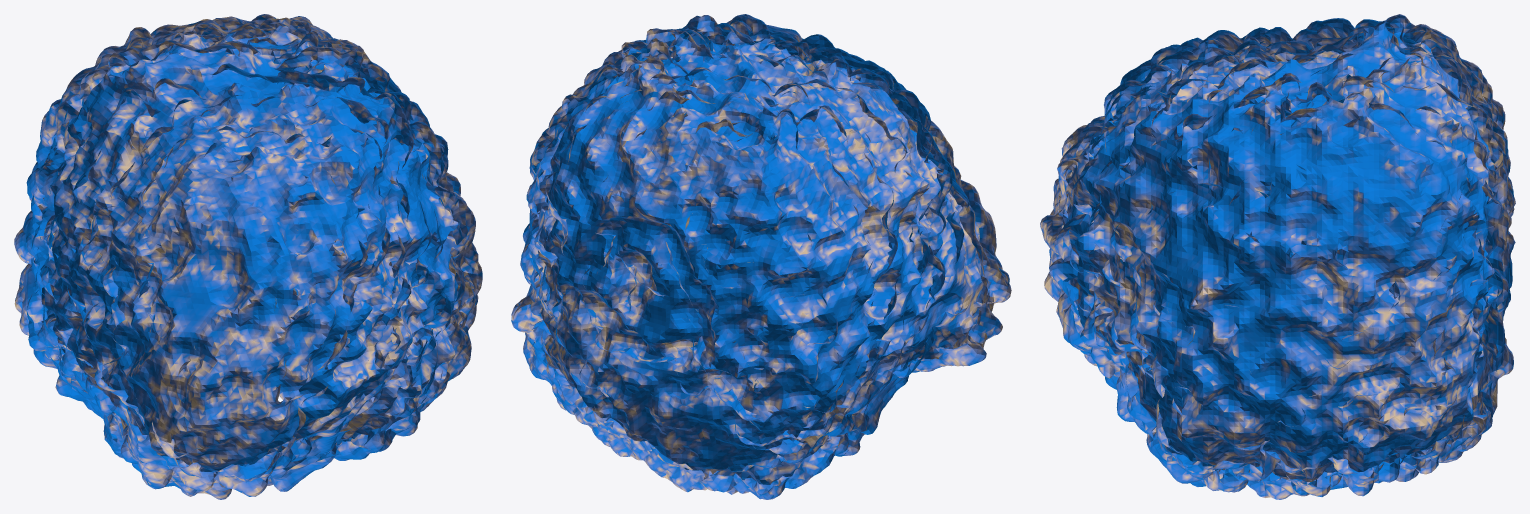
Rendered from clustering_cache_00030_cluster_26_surface.glb.
3 views of the same model, side by side, from view 1: azimuth 30°, elevation 25°; view 2: azimuth 150°, elevation 25°; view 3: azimuth 270°, elevation 25° (orthographic). The views are drawn at different scales.
Bounding box in the file's own units: 0.7094 × 0.7238 × 0.7172.
